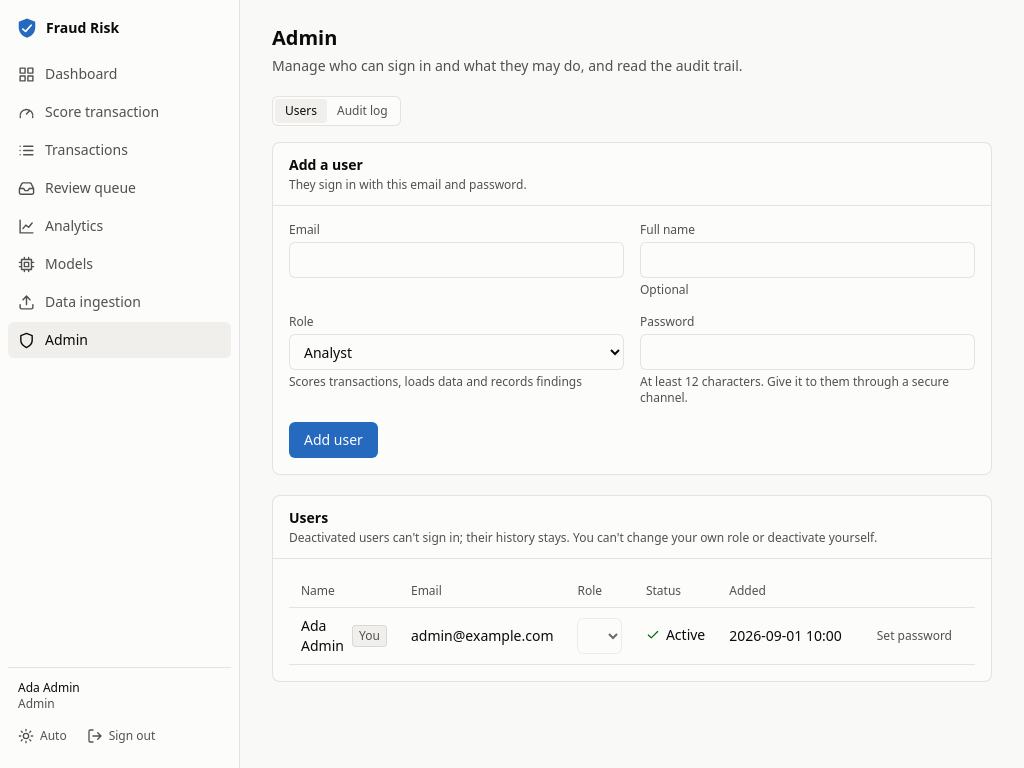
Test: checks a new user's details before creating them
Type "not-an-email" into the field labelled "Email" at (456, 260), box left=289, top=242, right=624, bottom=278
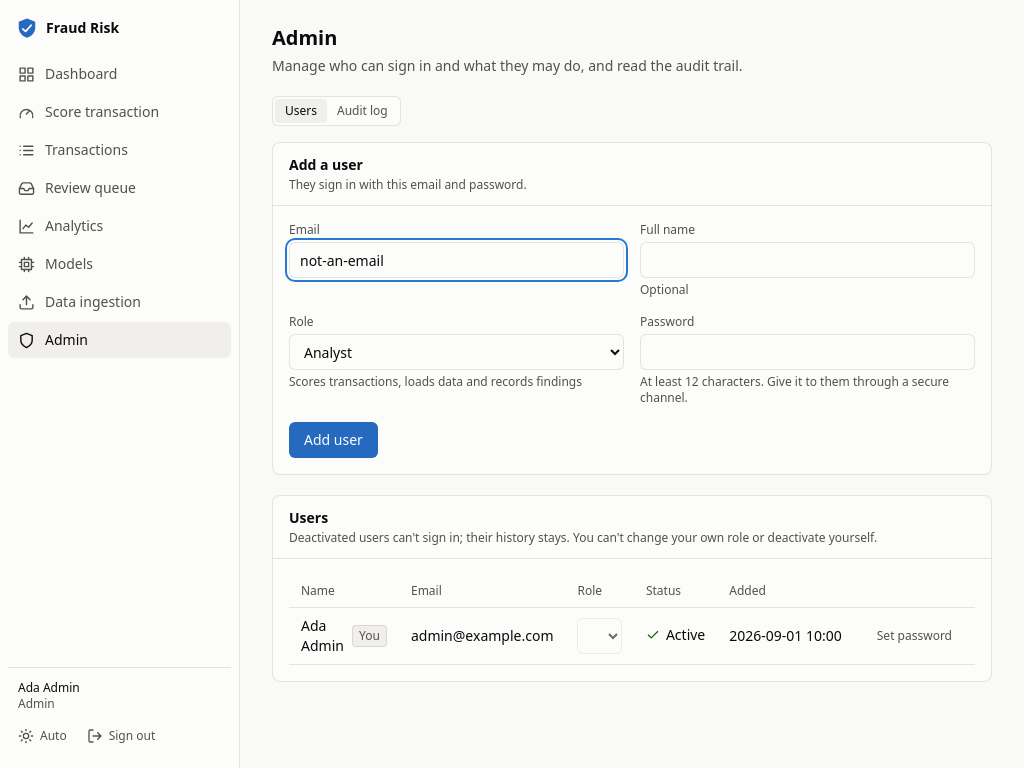
Type "short" into the password field labelled "Password" at (808, 352), box left=640, top=334, right=975, bottom=370
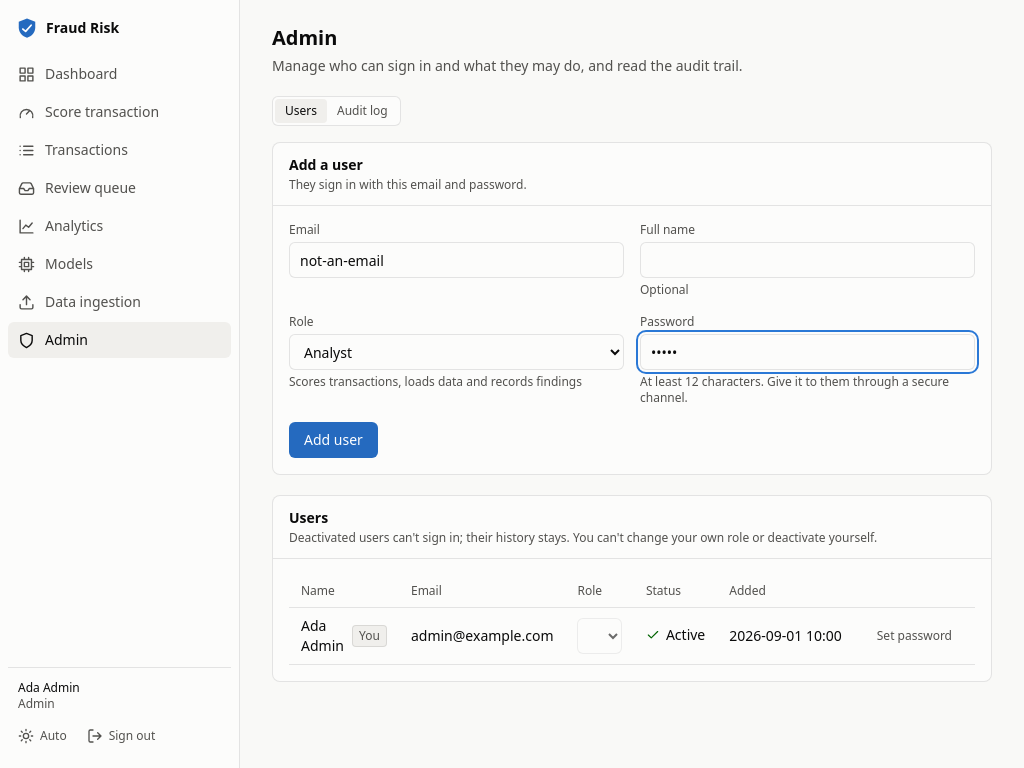
Click the button "Add user" at (333, 440), box left=289, top=422, right=378, bottom=458
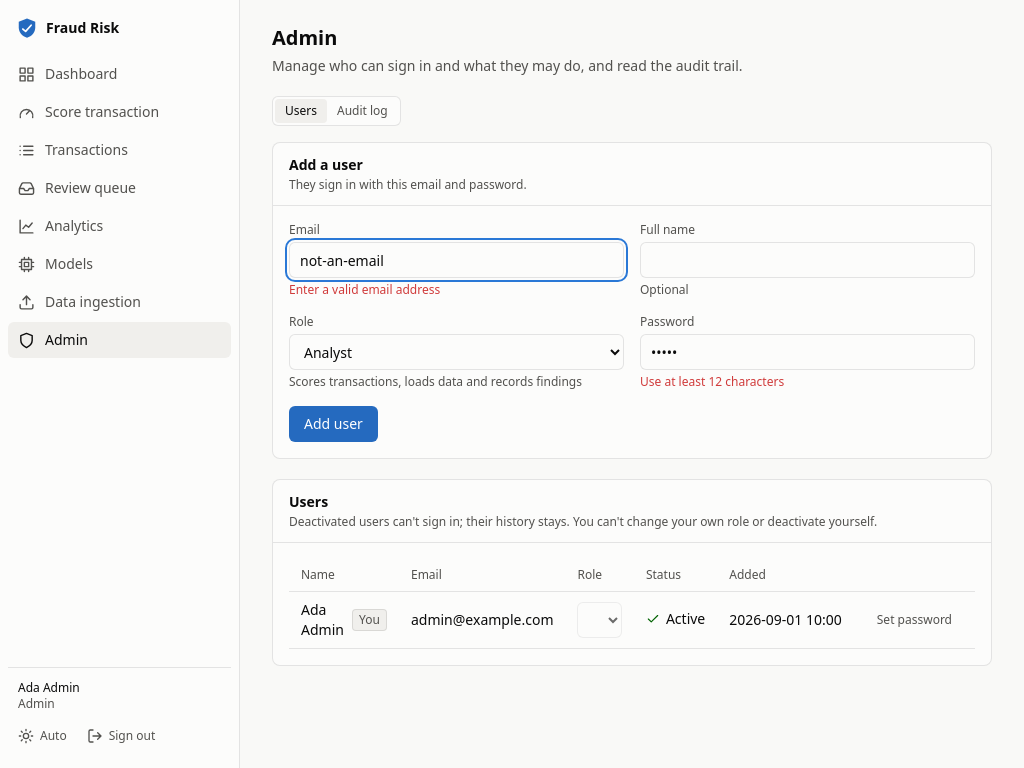
Now the text "Enter a valid email address" is shown, box left=289, top=281, right=440, bottom=298
Now the text "Use at least 12 characters" is shown, box left=640, top=373, right=784, bottom=390
